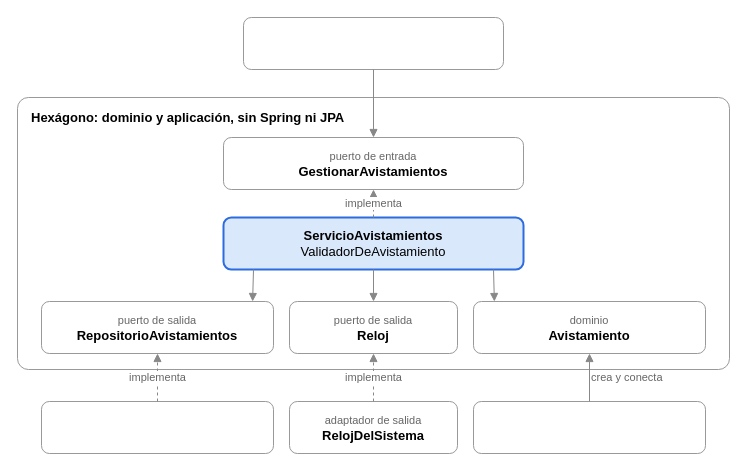
The diagram is 747 pixels wide and 471 high, and some of its shapes have lost their labels. Each missing label, with the centre of its shape:
adaptador de entrada · REST AvistamientoController: (373,43)
adaptador de salida · H2 RepositorioAvistamientosJpa: (157,427)
configuración ConfiguracionAplicacion: (589,427)
